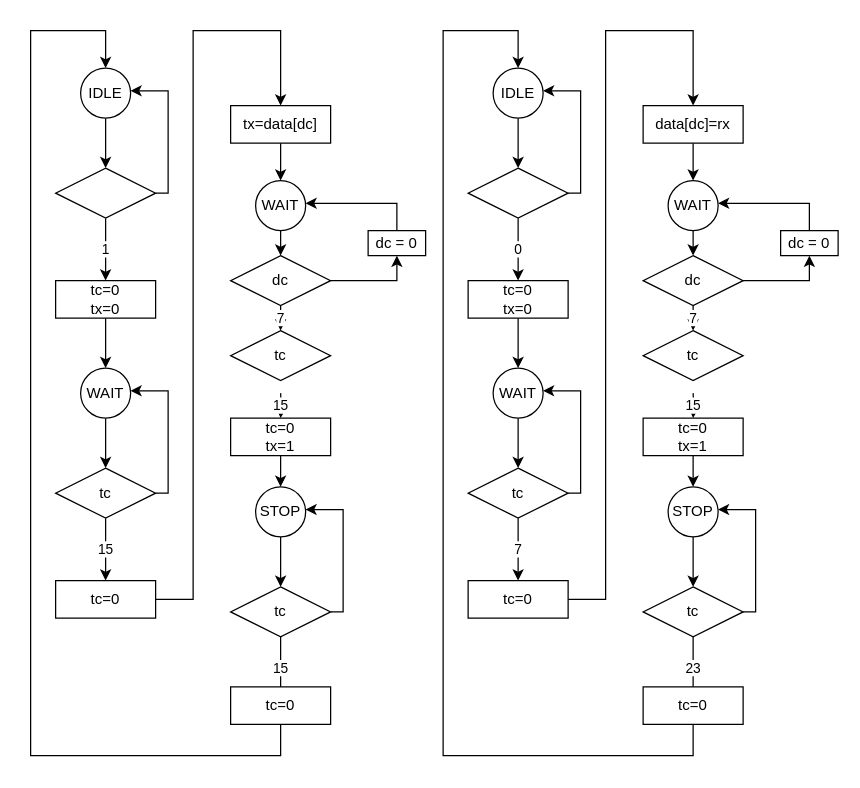
Image size: 860x788. Some labels were removed from this diagram. The box of each missing label's shape, as (x1, y1, x2, y2) in pixels:
rx: (467, 167, 568, 218)
trigger: (54, 167, 156, 218)
